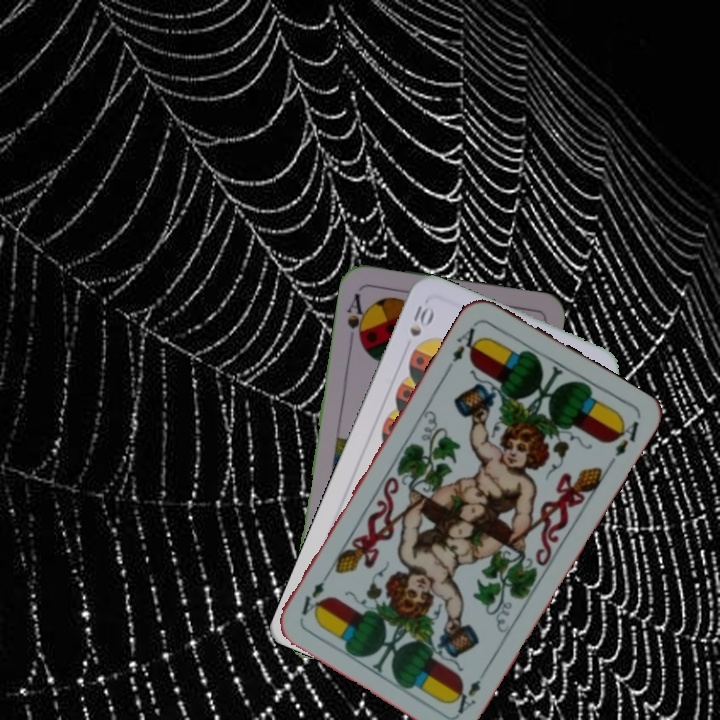EA: (449, 664, 490, 717), (448, 318, 485, 365)
S10: (405, 301, 437, 339)
SA: (343, 289, 370, 348)
